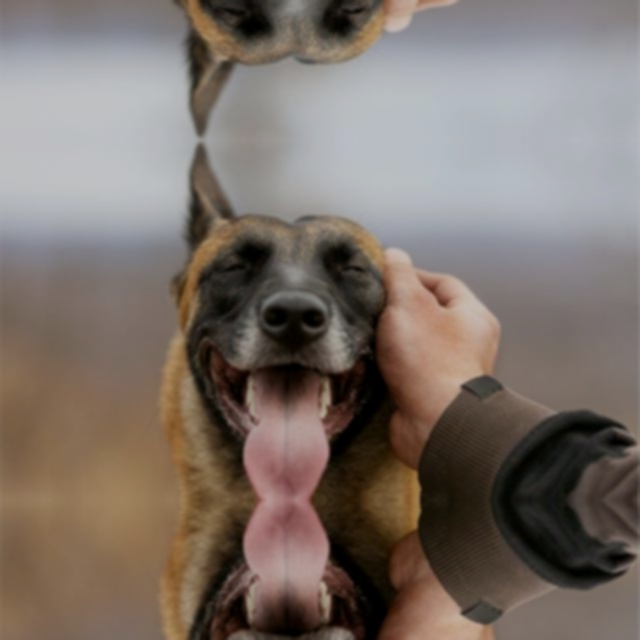dog: (121, 193, 423, 499), (121, 501, 423, 640), (121, 0, 423, 87)
